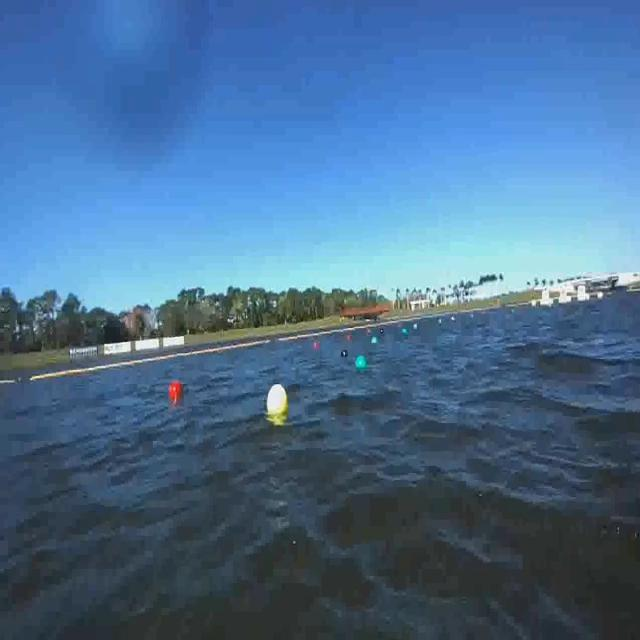green-buoy: (355, 355, 367, 371)
red-buoy: (170, 382, 183, 399)
yellow-buoy: (268, 386, 289, 420)
